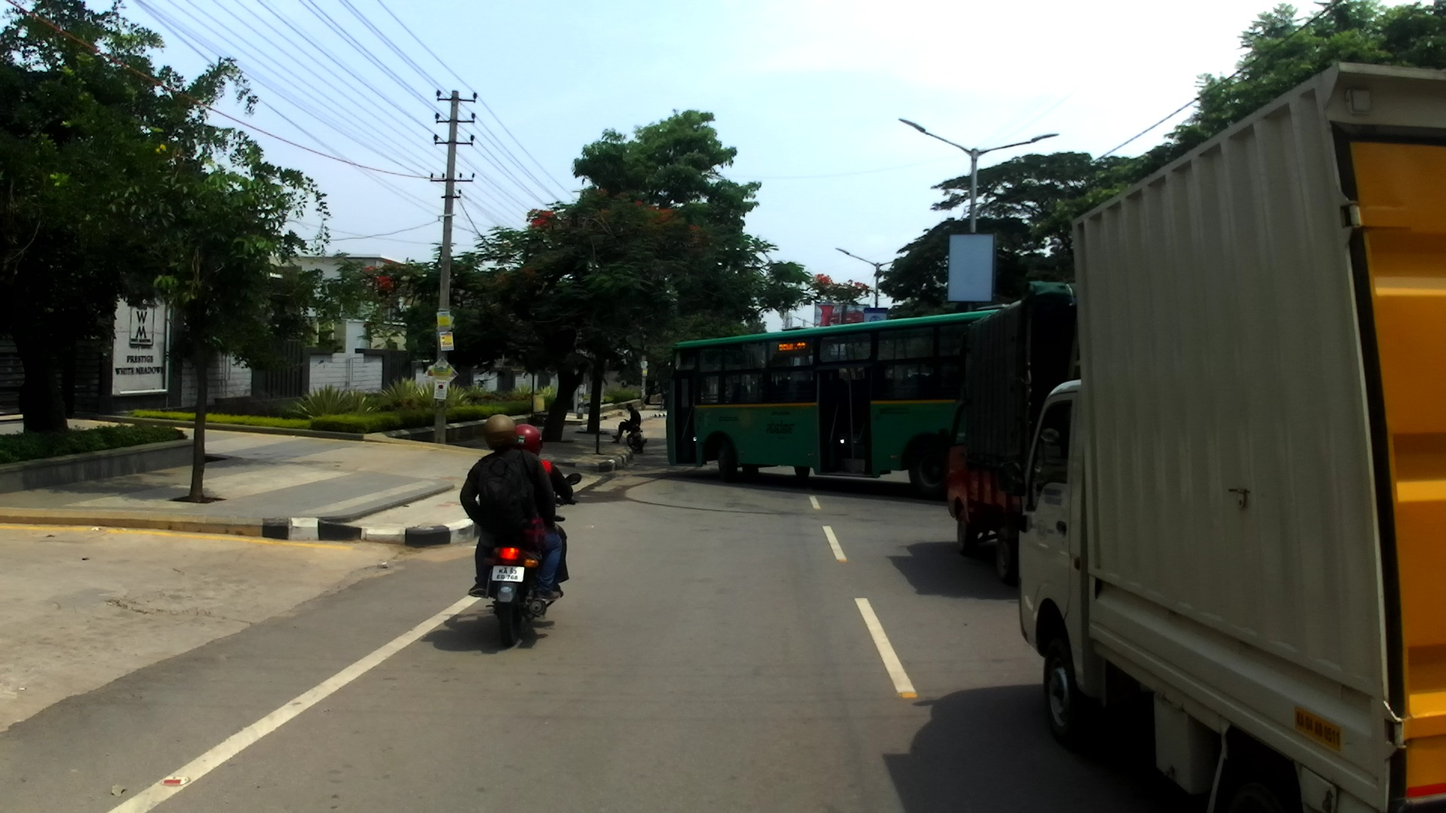bus: (664, 302, 1012, 501)
motorcycle: (468, 472, 584, 647), (626, 427, 648, 454)
rider: (454, 413, 563, 598), (513, 423, 574, 598), (610, 402, 641, 443)
truck: (996, 62, 1446, 811), (939, 280, 1077, 586)
